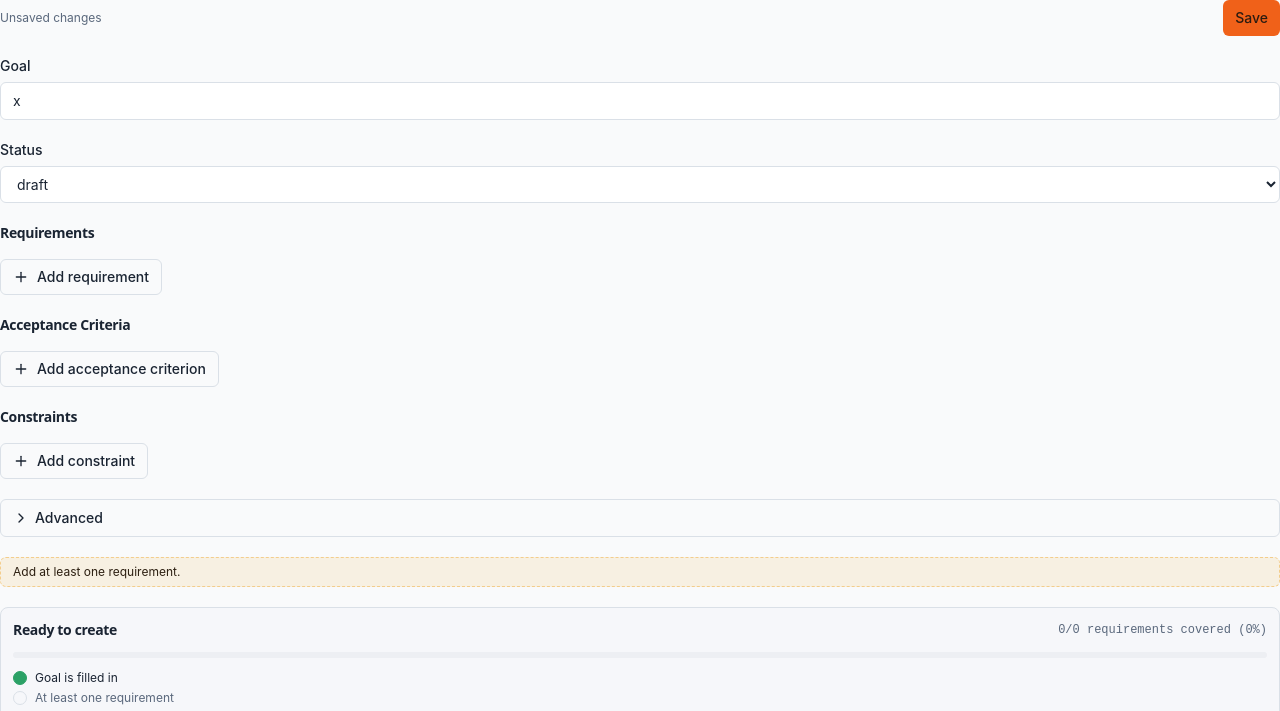
GuidedMode › auto-numbers a newly added requirement without a text input for its id
Click the button with test id "guided-add-requirement": (81, 277) [0,259,162,295]
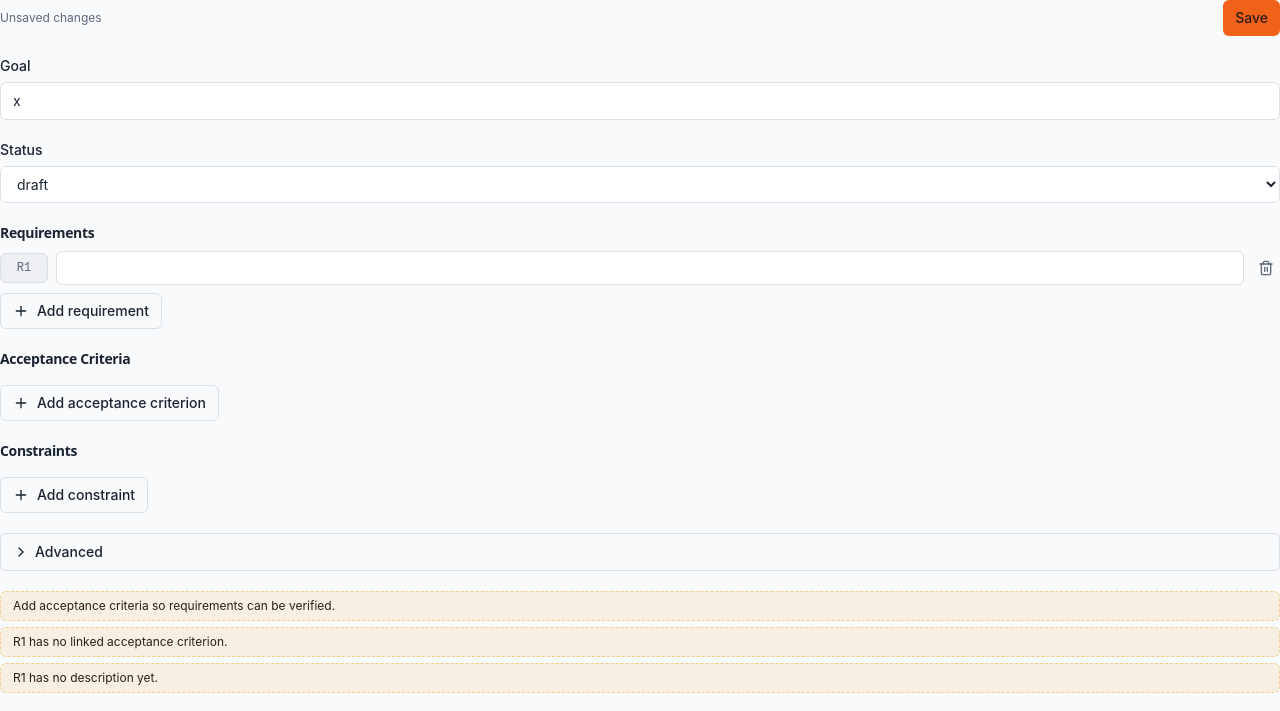
Expected: the text with test id "requirement-id-0" reads "R1", [17,261,31,275]
Click the button with test id "guided-add-requirement": (81, 311) [0,293,162,329]
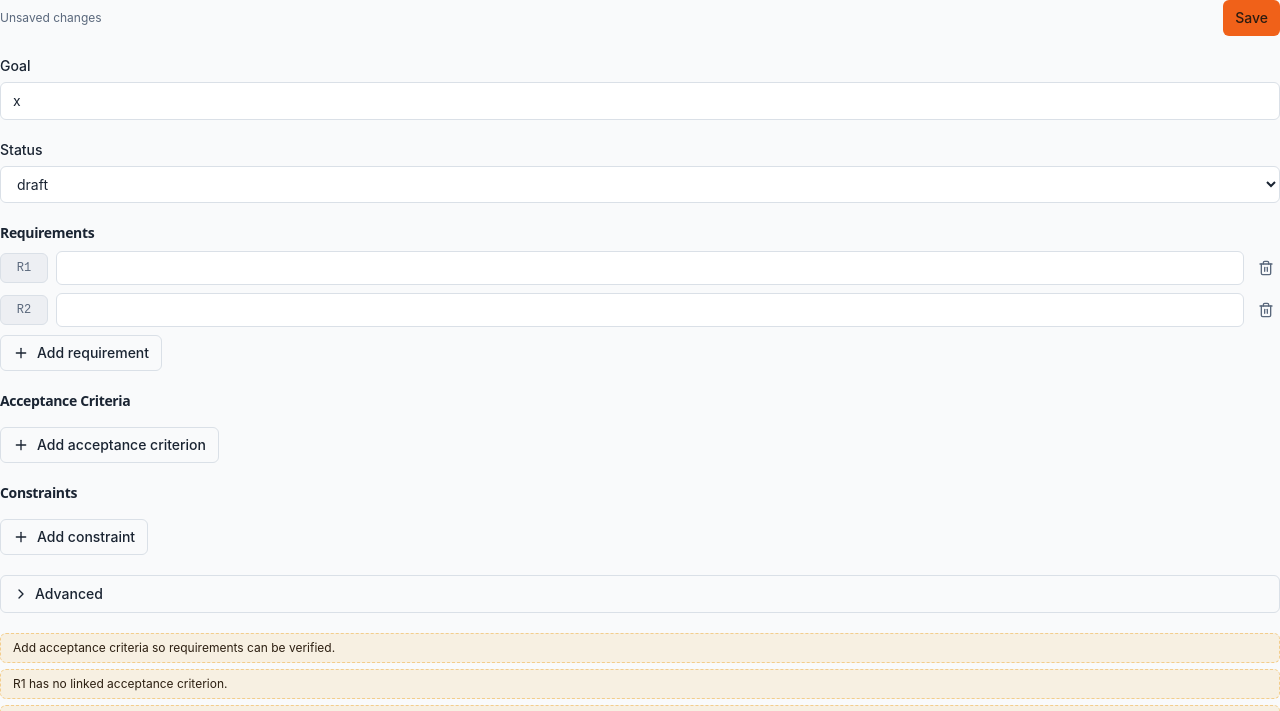
Expected: the text with test id "requirement-id-1" reads "R2", [17,303,31,317]
